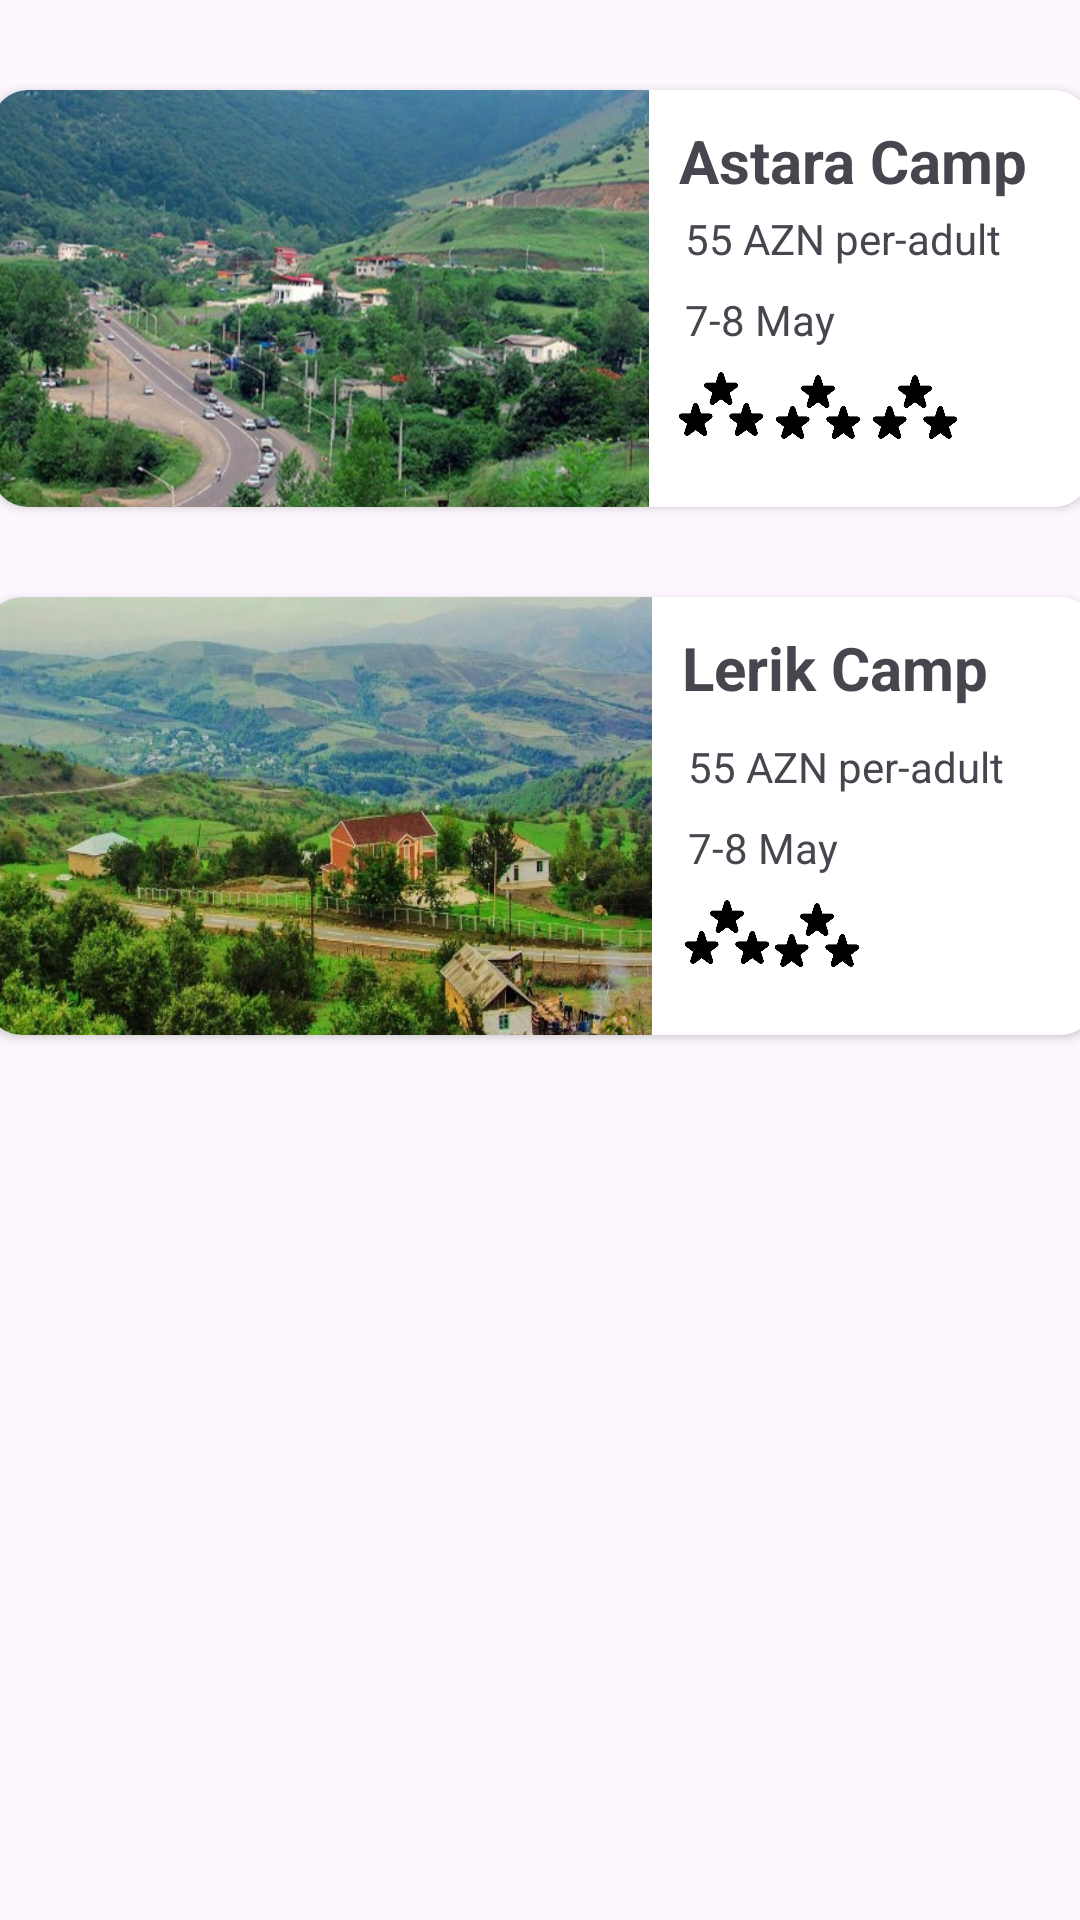

Locate icon controls on the screen. Image size 1080x1920, boxes as Rect(x1, y1, x2, y2).
star rating: Rect(679, 372, 763, 436), Rect(776, 375, 860, 439), Rect(873, 375, 957, 439), Rect(685, 900, 769, 964), Rect(775, 903, 859, 967)
